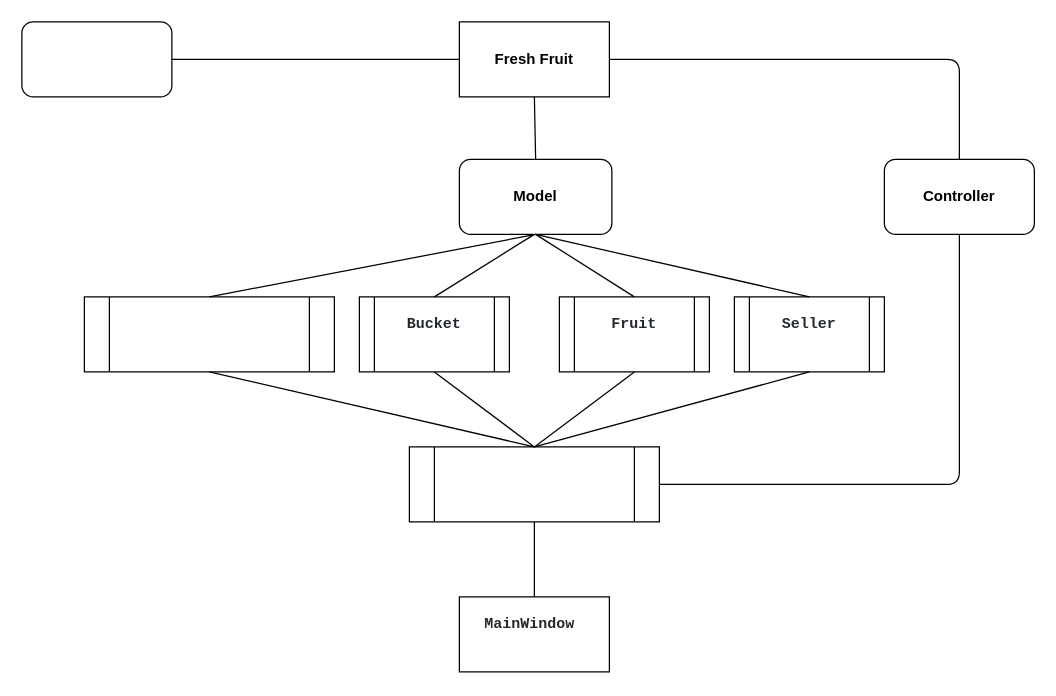
The diagram is 1056 pixels wide and 696 high, and some of its shapes have lost their labels. Each missing label, with the centre of its shape:
Assets: the point at 96,59
BucketController: the point at 533,484
BucketEventListener: the point at 208,334
